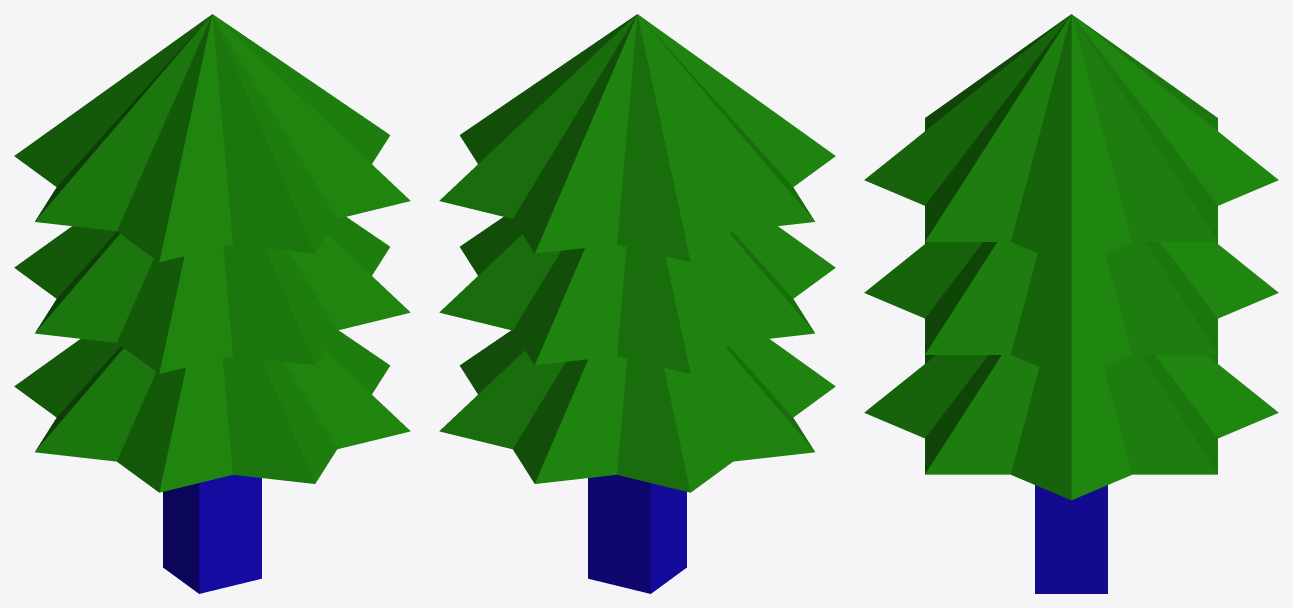
File: Tree_Mess.FBX
3 views of the same model, side by side, from view 1: azimuth 30°, elevation 25°; view 2: azimuth 150°, elevation 25°; view 3: azimuth 270°, elevation 25° (orthographic).
Parts seen in each view (by area): view 1: Box002; view 2: Box002; view 3: Box002.
Part boxes in pixels (left/top/right/bottom): Box002: left=14, top=14, right=410, bottom=593; Box002: left=439, top=14, right=835, bottom=593; Box002: left=864, top=14, right=1278, bottom=593.
Size of the model in its own units: 56.57 by 84.94 by 56.57.
